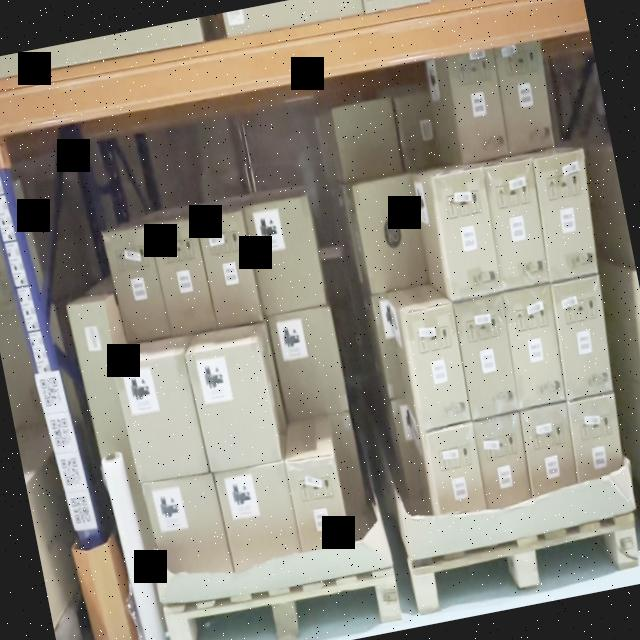box: (186, 342, 282, 473), (115, 352, 206, 482), (142, 470, 233, 585), (245, 198, 326, 314), (268, 306, 348, 420), (353, 175, 430, 293), (219, 465, 303, 572), (498, 286, 570, 408), (434, 169, 500, 296), (404, 305, 471, 428), (452, 296, 520, 417), (536, 149, 598, 281), (486, 160, 548, 288), (150, 218, 216, 334), (197, 212, 262, 328), (105, 228, 170, 342), (553, 276, 611, 399), (446, 51, 508, 163), (286, 452, 350, 551), (497, 41, 554, 151), (334, 99, 403, 181), (521, 403, 578, 498), (474, 414, 532, 506), (426, 426, 488, 512), (569, 395, 623, 484), (396, 95, 442, 171)
